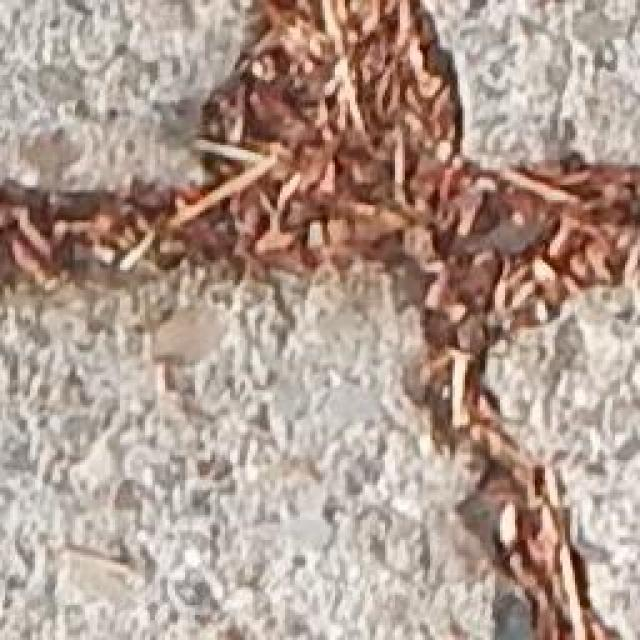concrete-crack: (0, 0, 640, 640)
